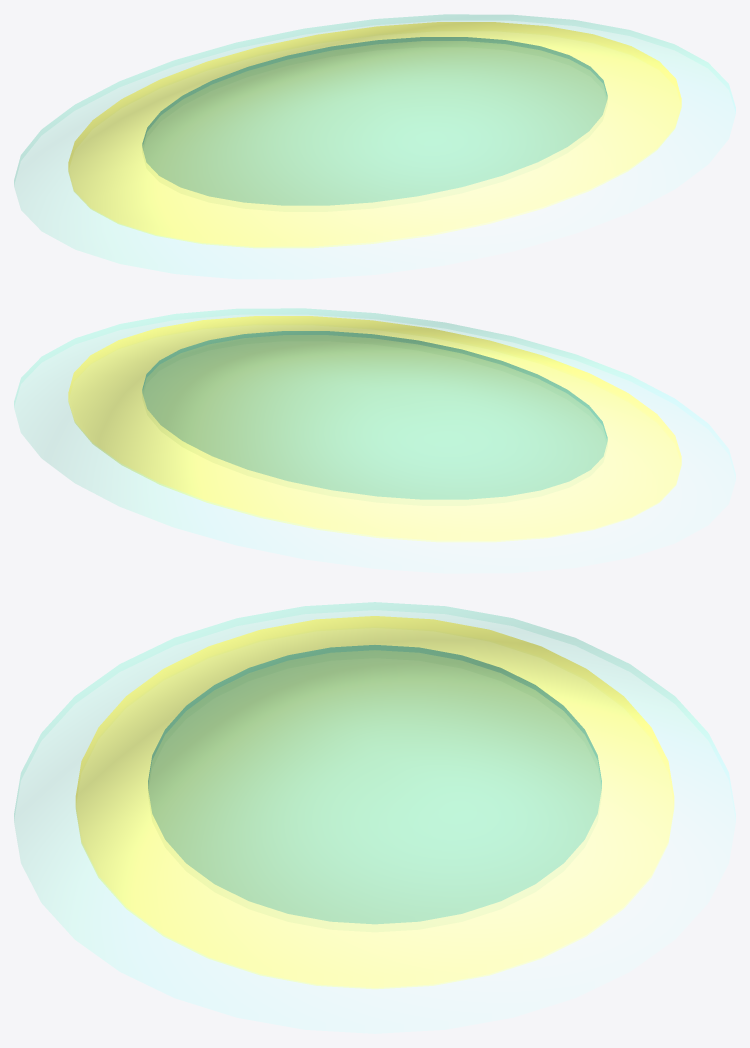
Rendered from selection_ring.gltf.
The picture shows the model from 3 angles, top to bottom: view 1: azimuth 30°, elevation 25°; view 2: azimuth 150°, elevation 25°; view 3: azimuth 270°, elevation 25°; orthographic projection. The views are drawn at different scales.
Visible parts, largest first — view 1: selection_ring; view 2: selection_ring; view 3: selection_ring.
Boxes of the visible parts, left/top/right/bottom form: selection_ring: left=14, top=14, right=735, bottom=279; selection_ring: left=14, top=308, right=735, bottom=573; selection_ring: left=14, top=602, right=735, bottom=1033.
Bounding box in the file's own units: 1.36 × 0.104 × 0.9792.
